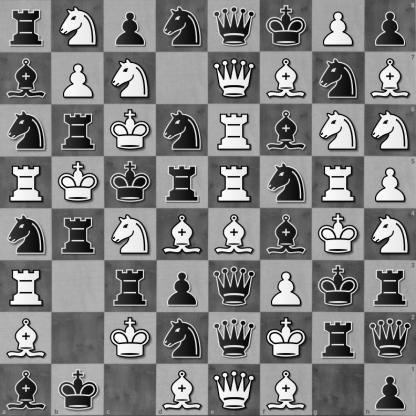B: (156, 364, 209, 416), (260, 364, 312, 416), (364, 52, 416, 104), (1, 313, 52, 364), (157, 209, 208, 260), (209, 209, 260, 260), (261, 53, 312, 104)
K: (53, 157, 104, 208), (105, 105, 156, 156), (105, 313, 156, 364), (261, 313, 312, 364), (313, 209, 364, 260)
N: (364, 104, 416, 156), (364, 209, 416, 260), (53, 1, 104, 52), (105, 53, 156, 104), (105, 209, 156, 260), (313, 105, 364, 156)
P: (364, 156, 416, 209), (53, 53, 104, 104), (261, 261, 312, 312), (313, 1, 364, 52)
Q: (209, 364, 260, 416), (209, 53, 260, 104)
R: (1, 157, 52, 208), (1, 261, 52, 312), (209, 105, 260, 156), (209, 157, 260, 208), (313, 157, 364, 208)
b: (0, 364, 52, 416), (1, 53, 52, 104), (261, 105, 312, 156), (261, 209, 312, 260)
board: (0, 0, 415, 415)
k: (52, 364, 104, 416), (105, 157, 156, 208), (261, 1, 312, 52), (313, 261, 364, 312)
n: (1, 105, 52, 156), (1, 209, 52, 260), (157, 1, 208, 52), (157, 105, 208, 156), (157, 313, 208, 364), (261, 157, 312, 208), (313, 53, 364, 104)
p: (364, 0, 416, 52), (364, 364, 416, 416), (105, 1, 156, 52), (157, 261, 208, 312)
q: (364, 312, 416, 364), (209, 1, 260, 52), (209, 261, 260, 312), (209, 313, 260, 364)
r: (364, 260, 416, 312), (1, 1, 52, 52), (53, 105, 104, 156), (53, 209, 104, 260), (105, 261, 156, 312), (157, 157, 208, 208), (313, 313, 364, 364)
